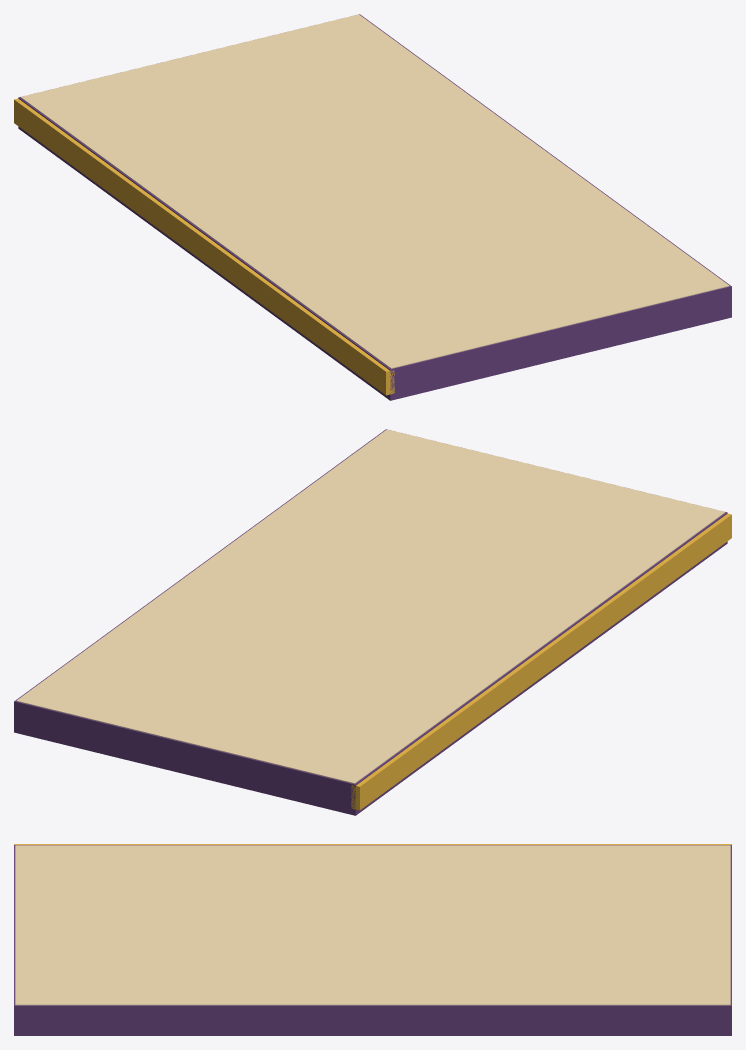
File: station_foundation.glb
3 renders of one model, top to bottom at view 1: azimuth 30°, elevation 25°; view 2: azimuth 150°, elevation 25°; view 3: azimuth 270°, elevation 25°, orthographic. The views are drawn at different scales.
Visible parts, largest first — view 1: station_foundation; view 2: station_foundation; view 3: station_foundation.
Part boxes in pixels (x1,y1,x2,y2): station_foundation: [14, 14, 731, 400]; station_foundation: [14, 429, 731, 815]; station_foundation: [14, 844, 731, 1035].
Size of the model in its own units: 5.36 by 0.47 by 10.
